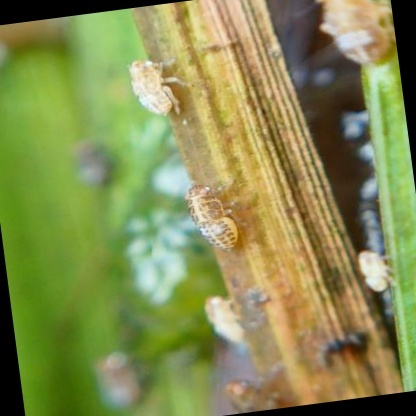Brown_hopper: (158, 165, 257, 288), (117, 45, 199, 136), (337, 235, 401, 310), (192, 284, 261, 352)
